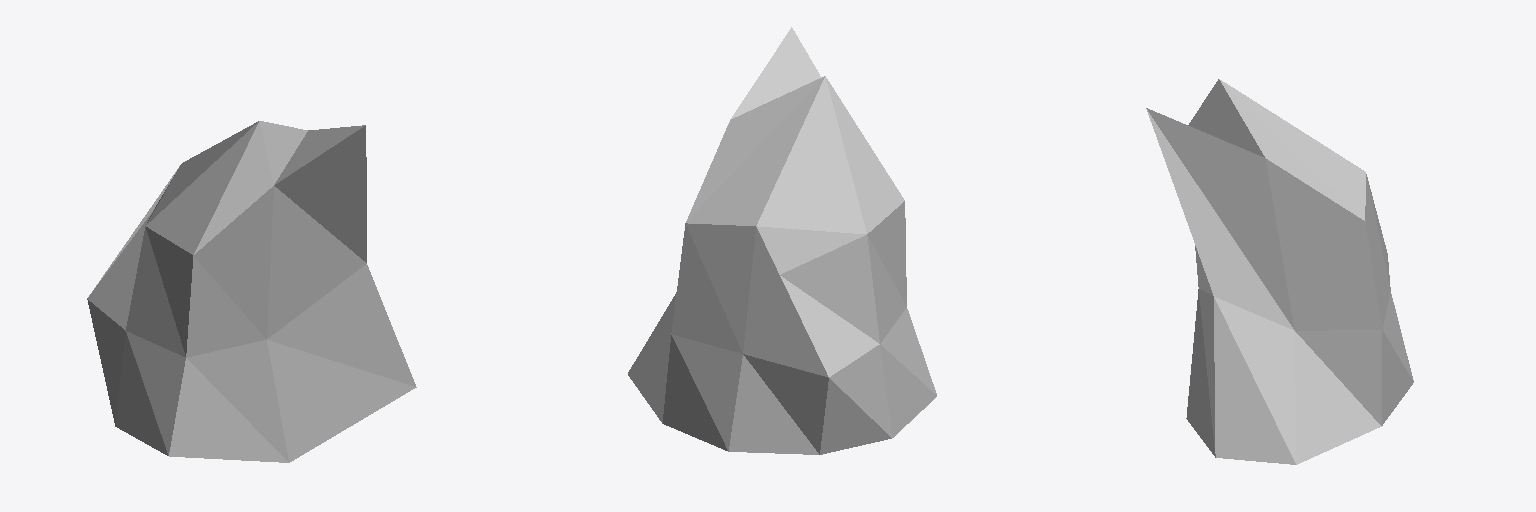
File: rock2.obj
The picture shows the model from 3 angles: view 1: azimuth 30°, elevation 25°; view 2: azimuth 150°, elevation 25°; view 3: azimuth 270°, elevation 25°; orthographic projection.
Visible parts, largest first — view 1: Rock2_Cube.002; view 2: Rock2_Cube.002; view 3: Rock2_Cube.002.
Part boxes in pixels (left/top/right/bottom): Rock2_Cube.002: left=87, top=121, right=416, bottom=462; Rock2_Cube.002: left=628, top=27, right=936, bottom=454; Rock2_Cube.002: left=1146, top=79, right=1413, bottom=464.
Size of the model in its own units: 3.79 by 4.64 by 3.33.